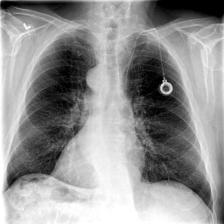normal: (6, 25, 216, 214)
